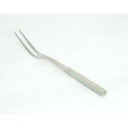fork: (13, 24, 114, 102)
